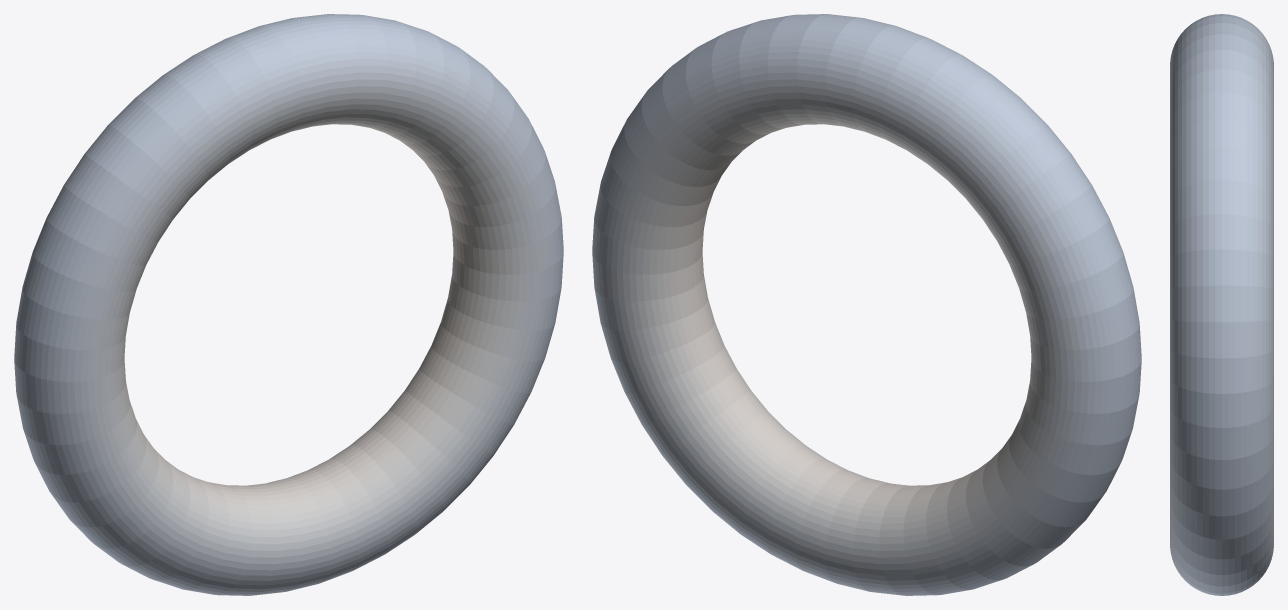
3 views of the same model, side by side, from view 1: azimuth 30°, elevation 25°; view 2: azimuth 150°, elevation 25°; view 3: azimuth 270°, elevation 25° (orthographic). The views are drawn at different scales.
Visible parts, largest first — view 1: world; view 2: world; view 3: world.
Part boxes in pixels (box(x1,y1,x2,y2)): world: box(14, 14, 563, 595); world: box(592, 14, 1141, 595); world: box(1170, 14, 1273, 595).
Bounding box in the file's own units: 27.6 × 27.55 × 4.92.
